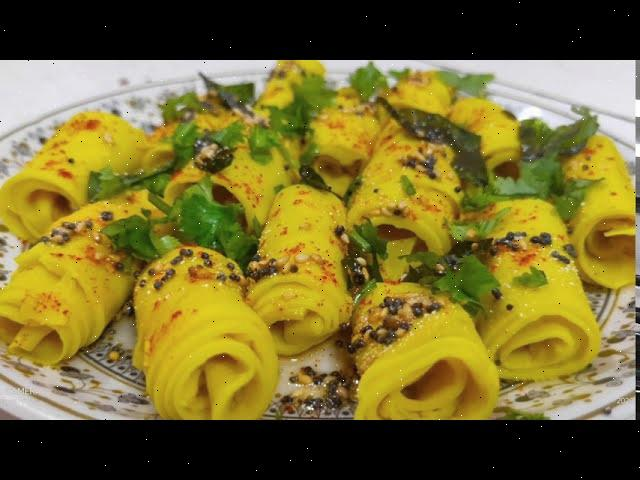khandvi: (4, 60, 634, 416)
